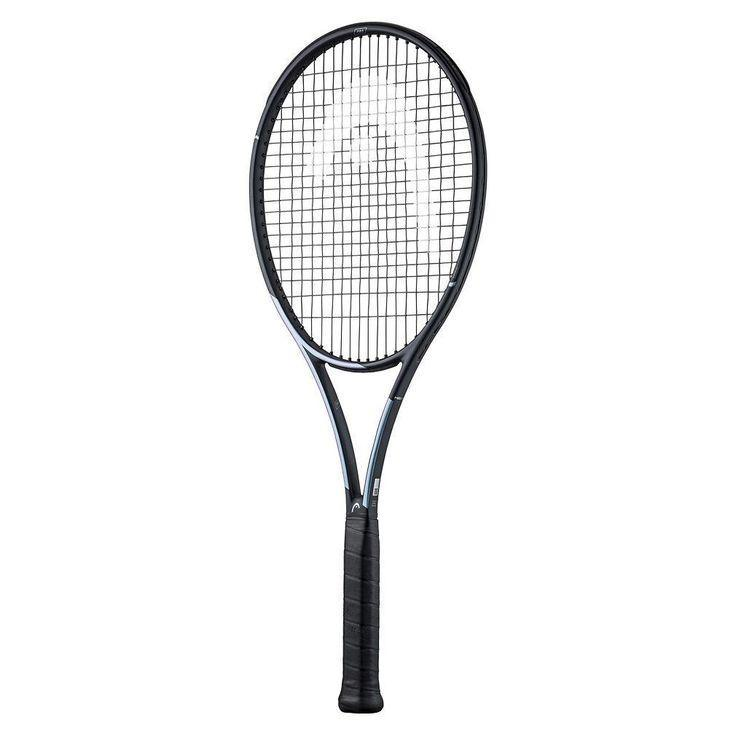Tennis-Racket: (247, 24, 485, 708)
